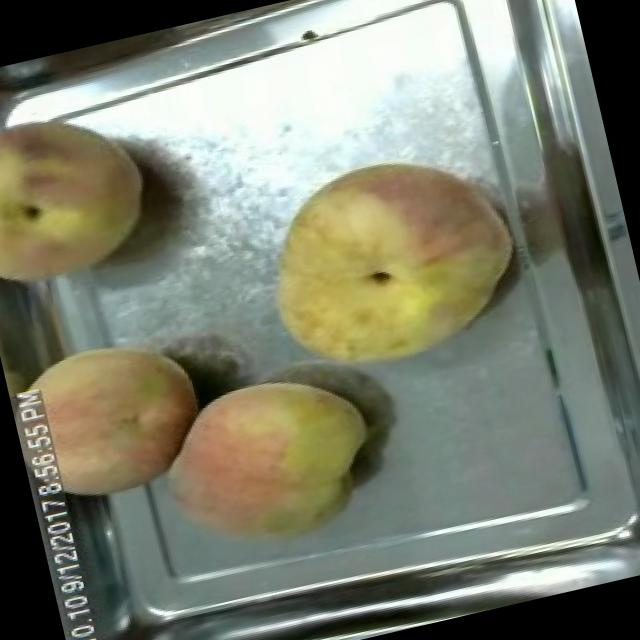Fruit: (237, 122, 540, 396), (140, 351, 396, 576), (0, 87, 177, 310), (32, 314, 224, 512)
